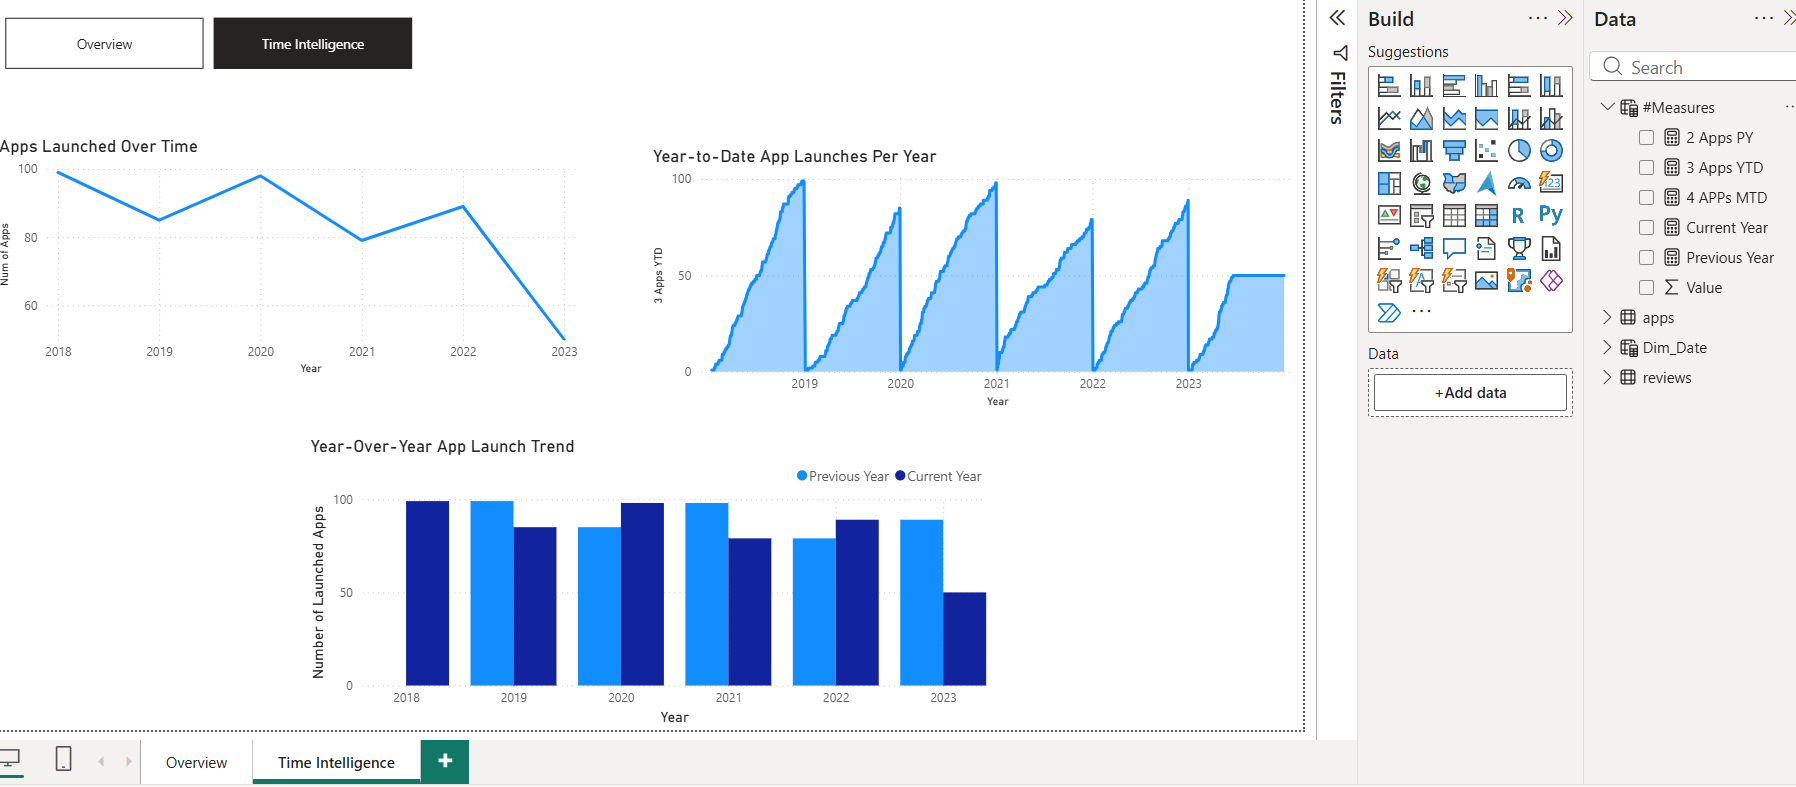

Layout of this report page (visuals, bound fields, positions):
{"tool":"powerbi","page":{"name":"Time Intelligence","canvas":[1280,720],"ordinal":1},"visuals":[{"type":"pageNavigator","box":[11,23.2,399.9,50.1],"z":0},{"type":"lineChart","title":"Apps Launched Over Time","fields":{"Category":["apps.launch_date.Variation.Date Hierarchy.Year","apps.launch_date.Variation.Date Hierarchy.Quarter","apps.launch_date.Variation.Date Hierarchy.Month","apps.launch_date.Variation.Date Hierarchy.Day"],"Y":["CountNonNull(apps.app_id)"]},"box":[0,138.2,576,239.7],"z":3},{"type":"areaChart","title":"Year-to-Date App Launches Per Year","fields":{"Y":["#Measures.3 Apps YTD"],"Category":["apps.launch_date.Variation.Date Hierarchy.Year","apps.launch_date.Variation.Date Hierarchy.Quarter","apps.launch_date.Variation.Date Hierarchy.Month","apps.launch_date.Variation.Date Hierarchy.Day"]},"box":[639.5,148,640.8,261.7],"z":4},{"type":"clusteredColumnChart","title":"Year-Over-Year App Launch Trend","fields":{"Category":["apps.launch_date.Variation.Date Hierarchy.Year"],"Y":["#Measures.5 Apps YoY","#Measures.1 Total Apps"]},"box":[304.5,431.7,671.3,288.6],"z":5}]}

Visuals, with their boxes on the page's 1280x720 design canvas (x1, y1, x2, y2). These are canvas units, not pixel positions in the 1796x787 screenshot, which may show the page scaled, cropped or inside an application window:
pageNavigator: 11:23:411:73
"Apps Launched Over Time" lineChart: 0:138:576:378
"Year-to-Date App Launches Per Year" areaChart: 640:148:1280:410
"Year-Over-Year App Launch Trend" clusteredColumnChart: 304:432:976:720
